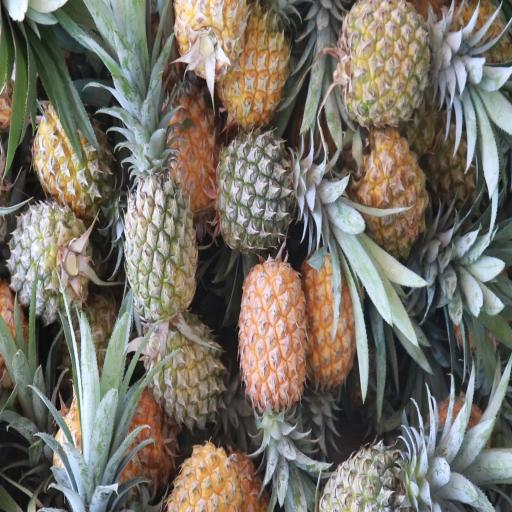------------------------------: (125, 147, 197, 313), (341, 0, 432, 119), (142, 313, 224, 418), (32, 100, 112, 202)
Pineapple - v8 v1: (238, 254, 310, 412), (356, 131, 428, 253), (156, 78, 222, 206), (301, 246, 359, 382), (218, 10, 292, 113), (171, 438, 244, 512)
